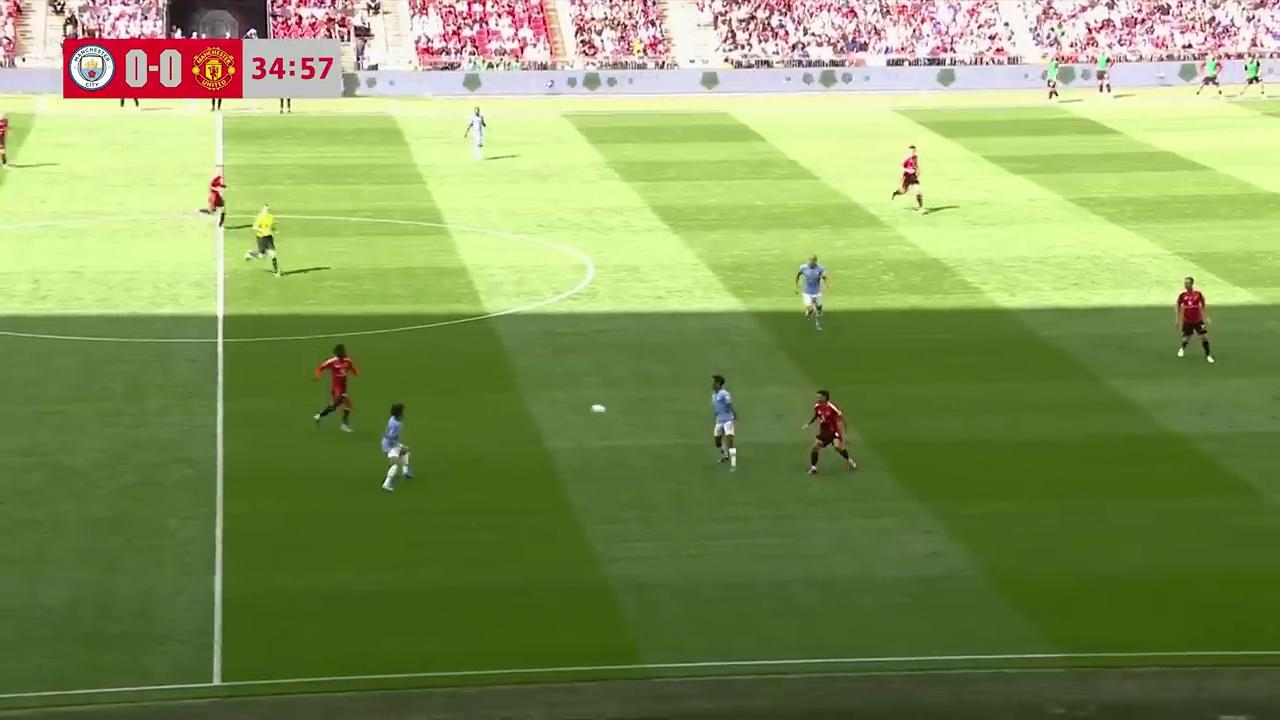ball: (589, 399, 607, 416)
player: (799, 389, 857, 475), (313, 343, 359, 432), (1175, 277, 1214, 363), (380, 403, 413, 492), (795, 253, 828, 331), (711, 375, 737, 471), (890, 145, 925, 213), (204, 167, 226, 226), (465, 106, 487, 158), (0, 111, 12, 173)
referee: (245, 205, 280, 276)
